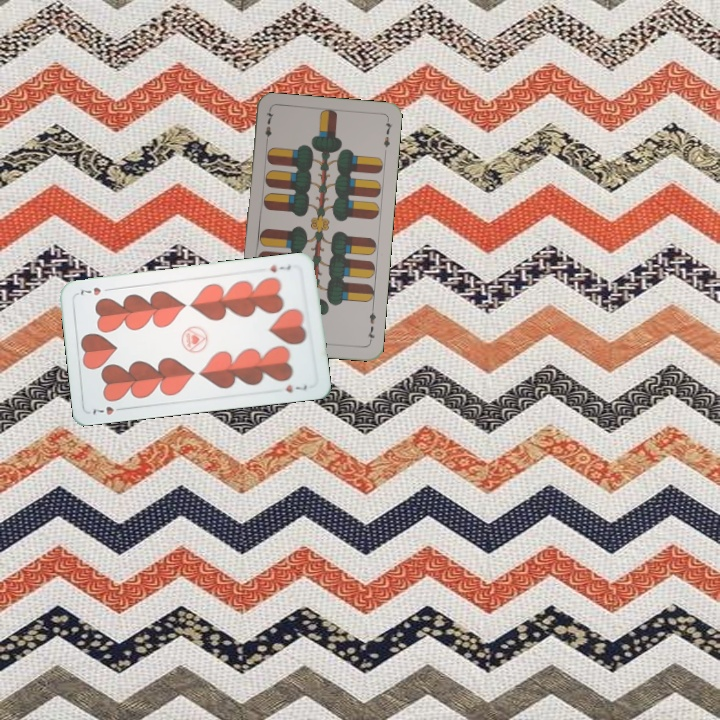E7: (261, 107, 276, 148), (363, 305, 378, 345)
H7: (89, 402, 128, 417), (266, 261, 293, 275)
